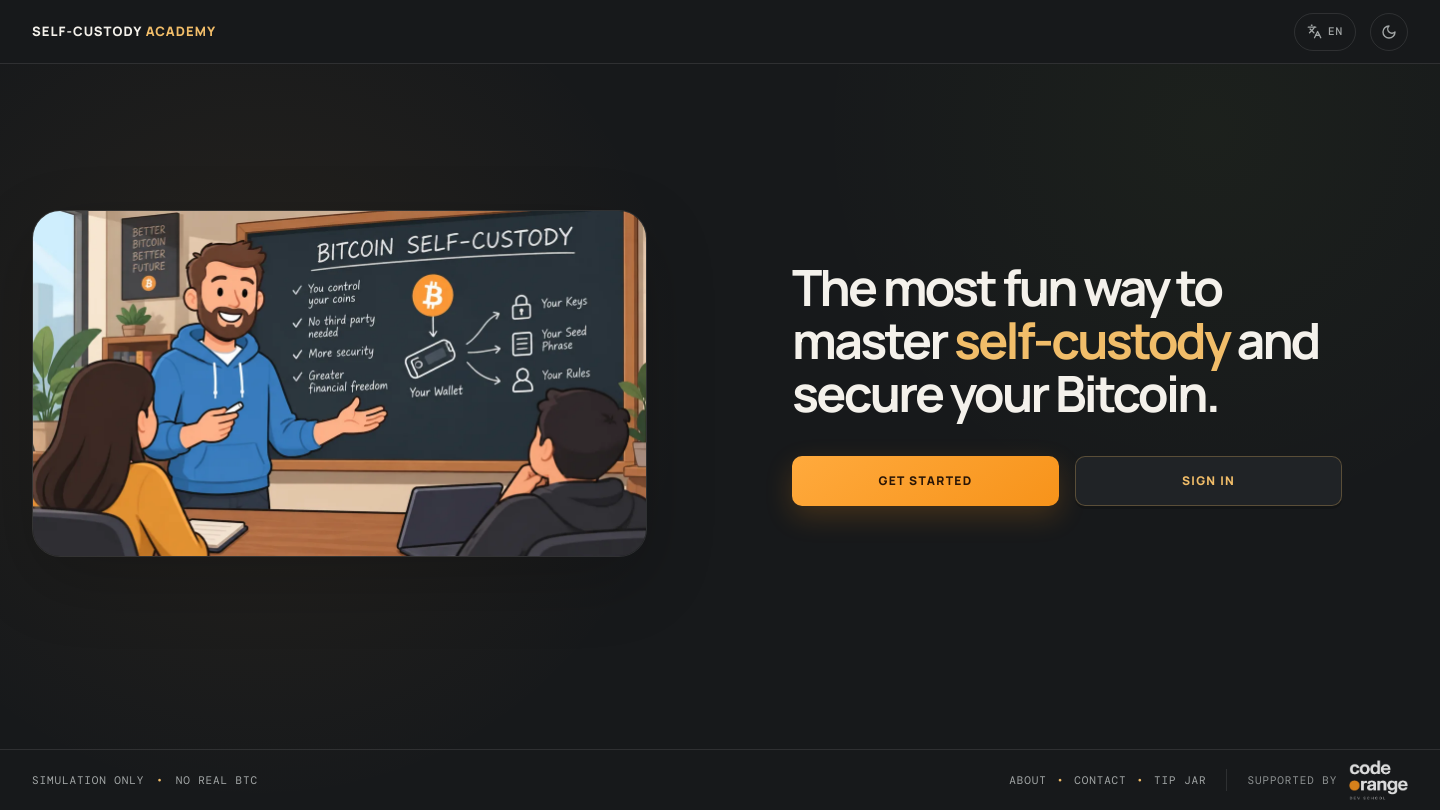
Test: pages with their own URL › gives the intro page its URL
Click the link "Get started": (926, 481) [792, 456, 1059, 506]
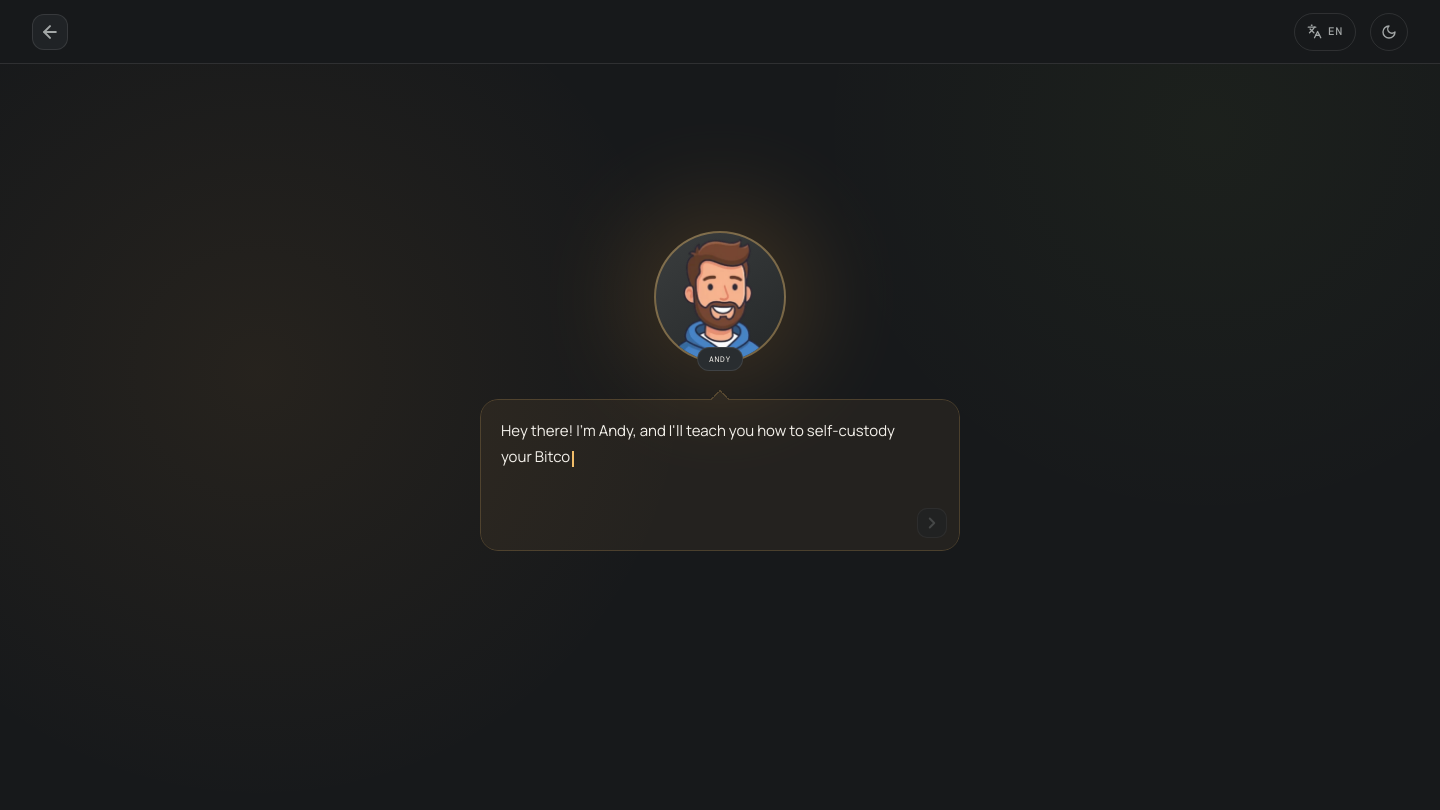
Result: the button named "Back to home" is shown at [32, 14, 68, 50]
